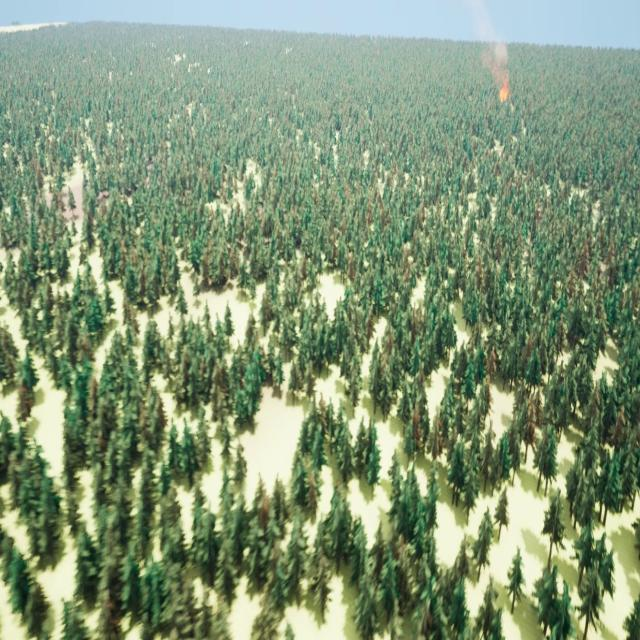fire: (497, 72, 514, 109)
smoke: (471, 3, 508, 89)
